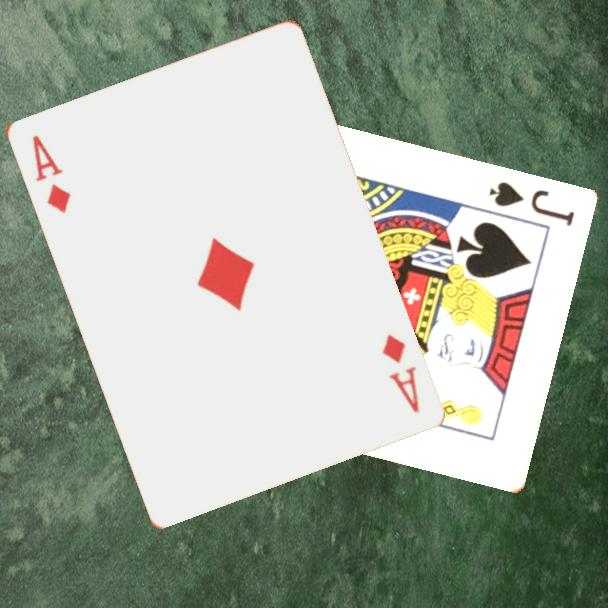d01: (28, 131, 73, 217), (378, 330, 422, 416)
s11: (485, 178, 577, 230)
